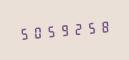eight: (95, 17, 107, 36)
five: (17, 24, 29, 43), (43, 21, 55, 40), (82, 18, 94, 37)
nine: (56, 20, 68, 39)
two: (69, 19, 81, 38)
zero: (30, 22, 42, 41)
